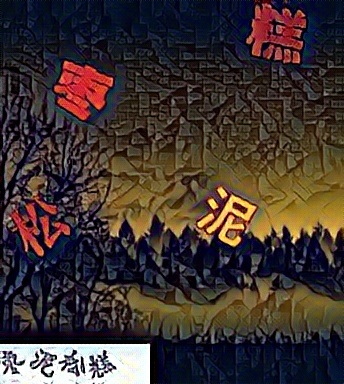B8E2: (245, 1, 309, 67)
C4E0: (193, 182, 257, 248)
CBC9: (9, 193, 73, 259)
D4E6: (50, 56, 114, 122)
